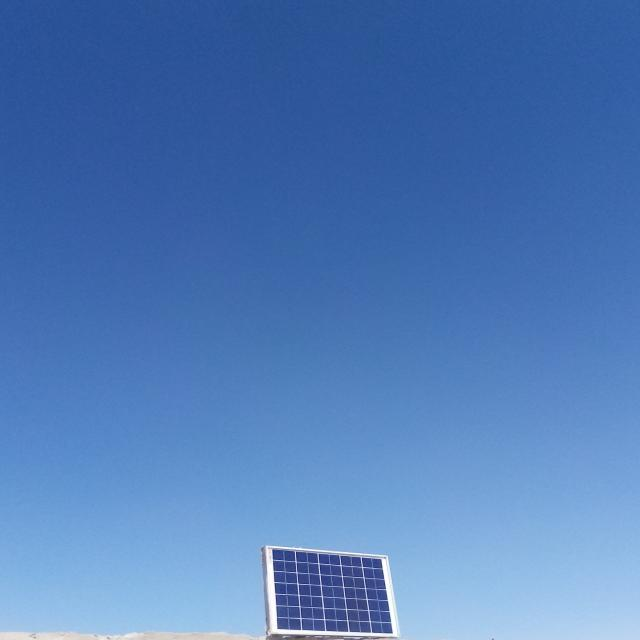no faulty: (267, 547, 401, 636)
